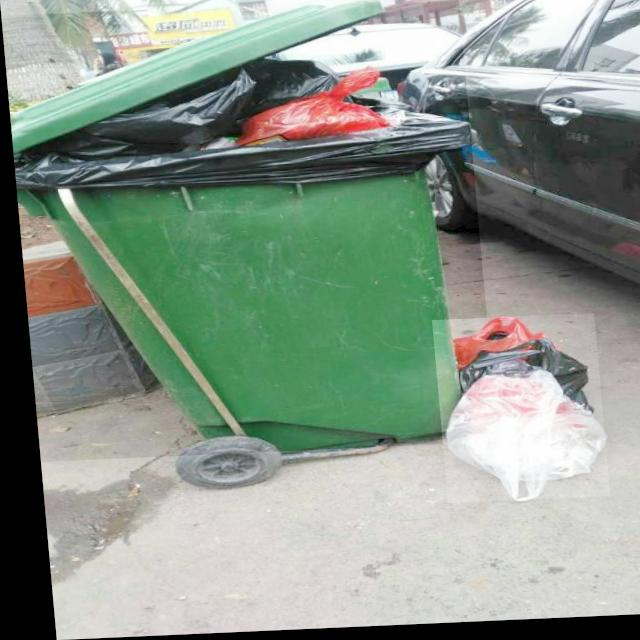garbage: (426, 318, 601, 507)
overflow: (1, 1, 489, 462)
